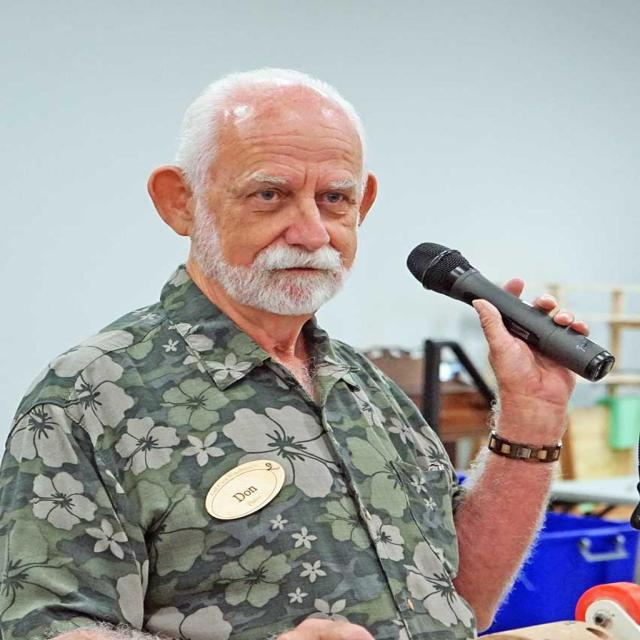Face: (191, 80, 387, 327)
